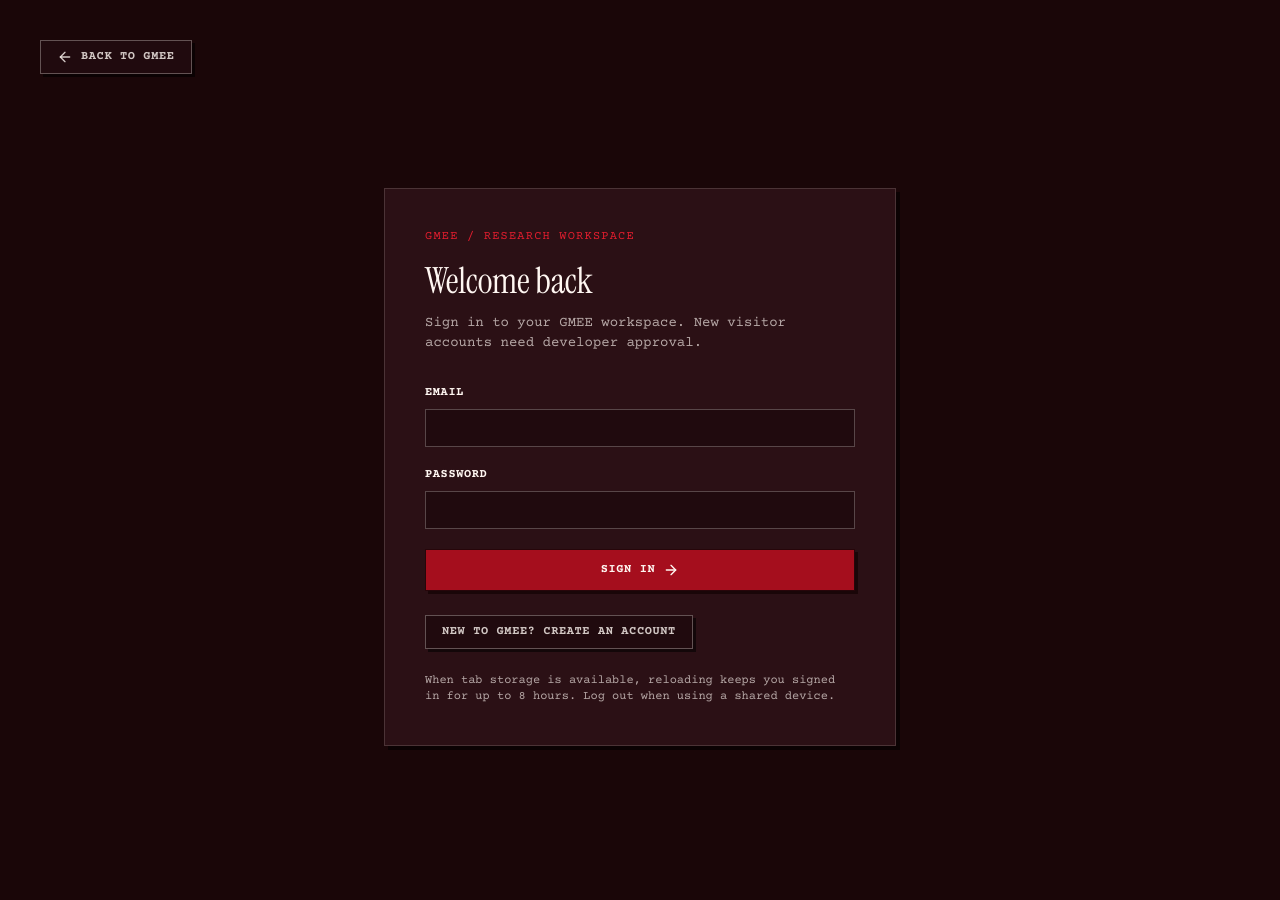
Test: visitor approval workflow › registers a named visitor and shows the waiting page without requesting corpus data
Click the button "New to GMEE? Create an account" at point(559, 632), box [425,615,693,649]
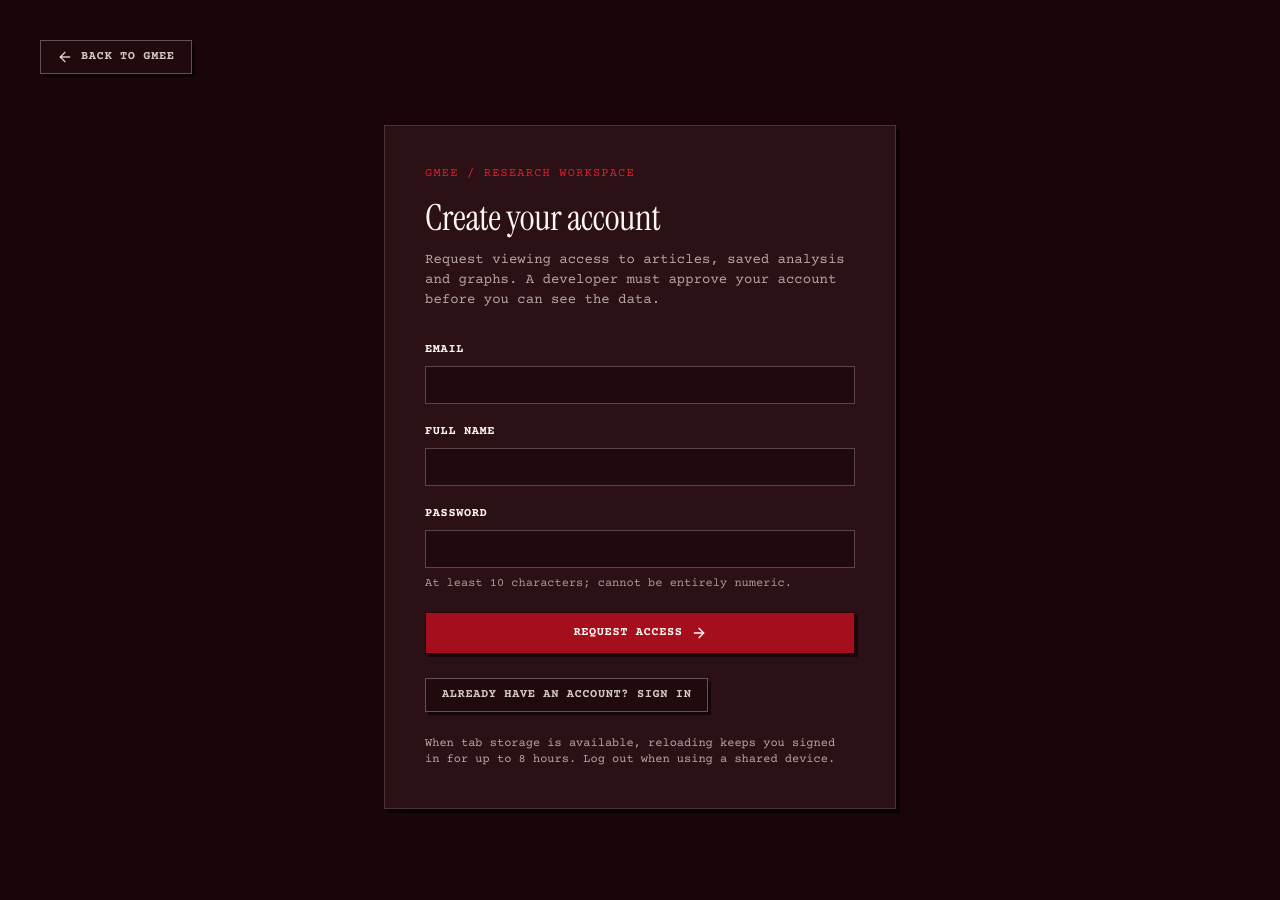
Type " New Visitor " into the field labelled "Full name" at point(640, 467), box [425,448,855,486]
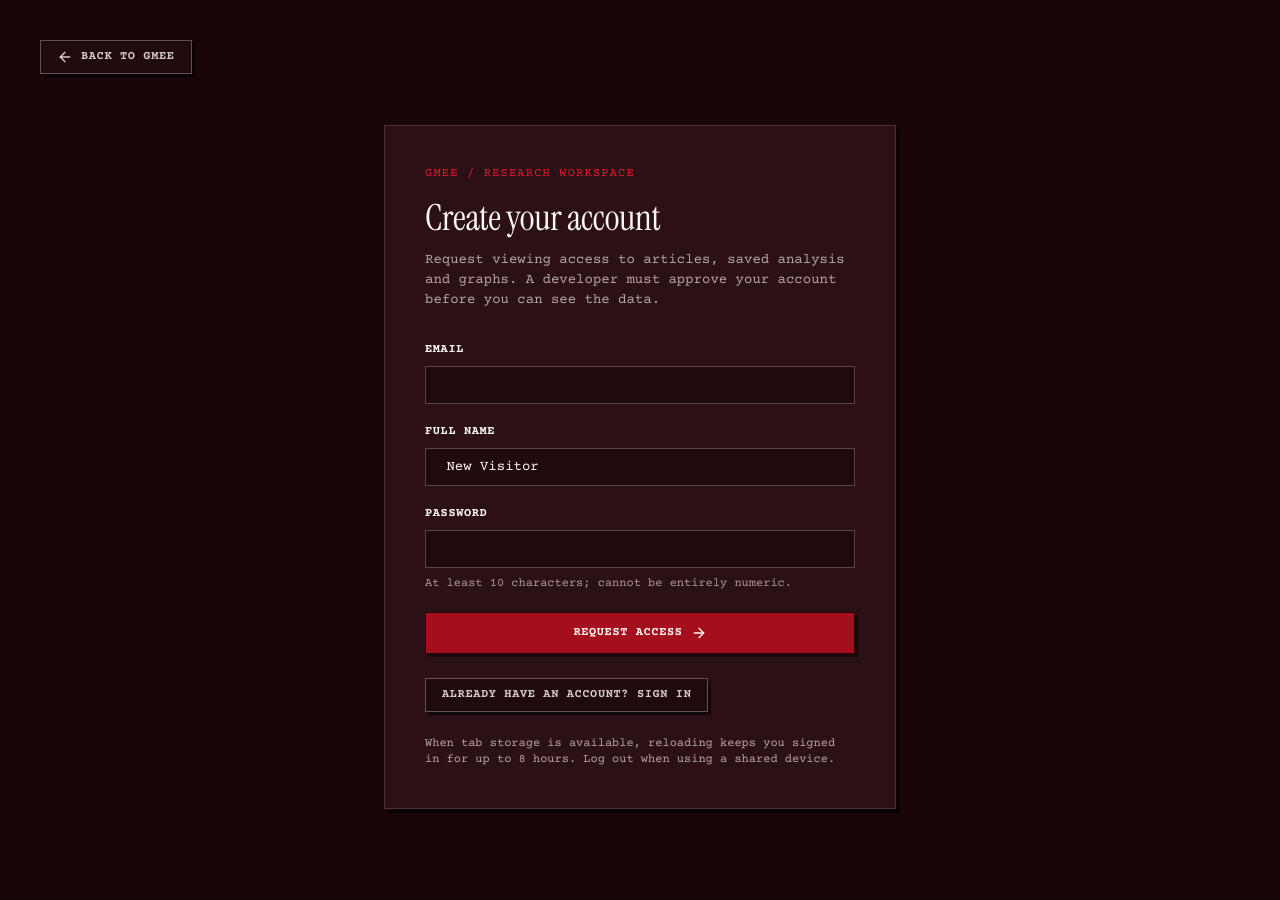
Type "reviewer@example.com" into the field labelled "Email" at point(640, 385), box [425,366,855,404]
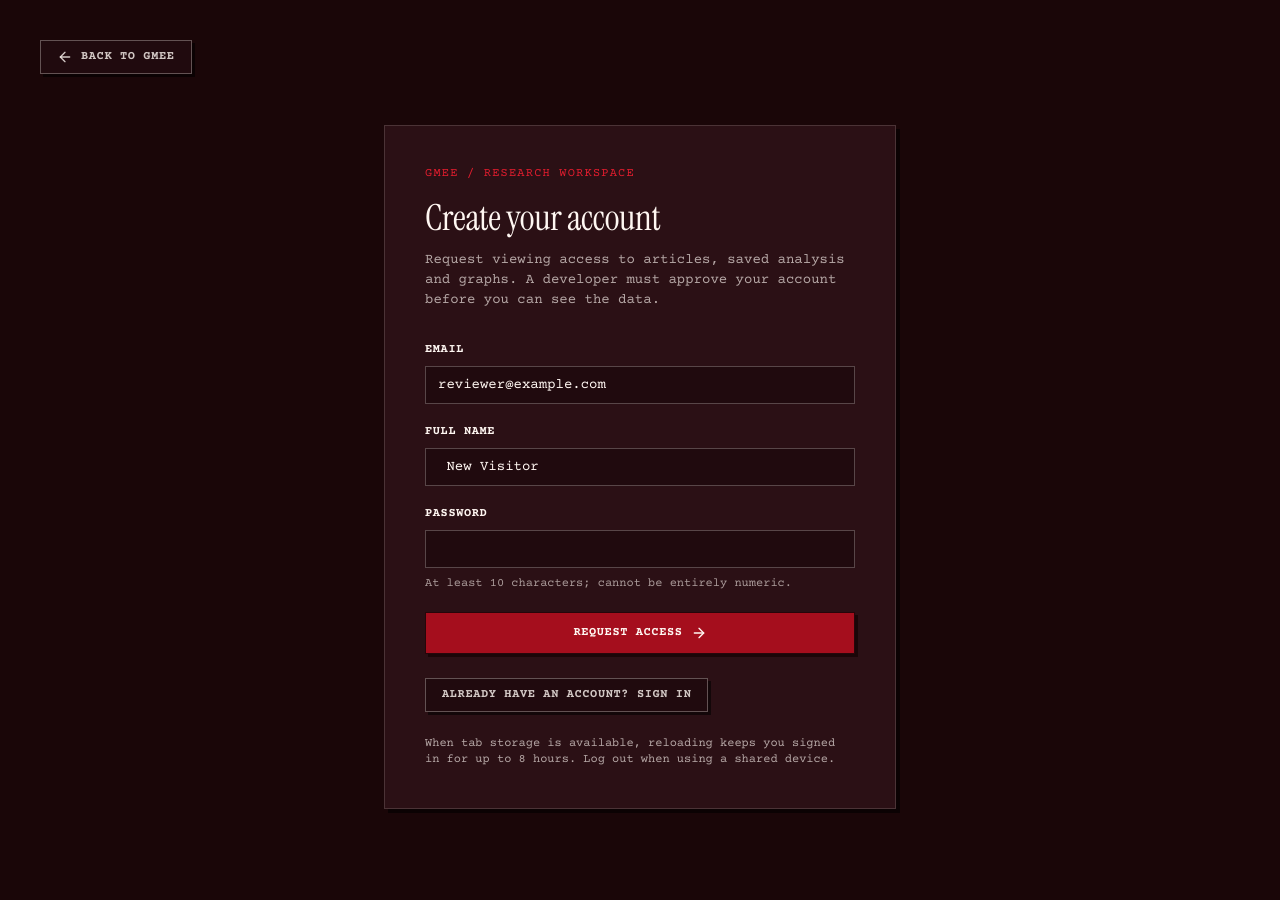
Type "visitor-password-test" into the password field labelled "Password" at point(640, 549), box [425,530,855,568]
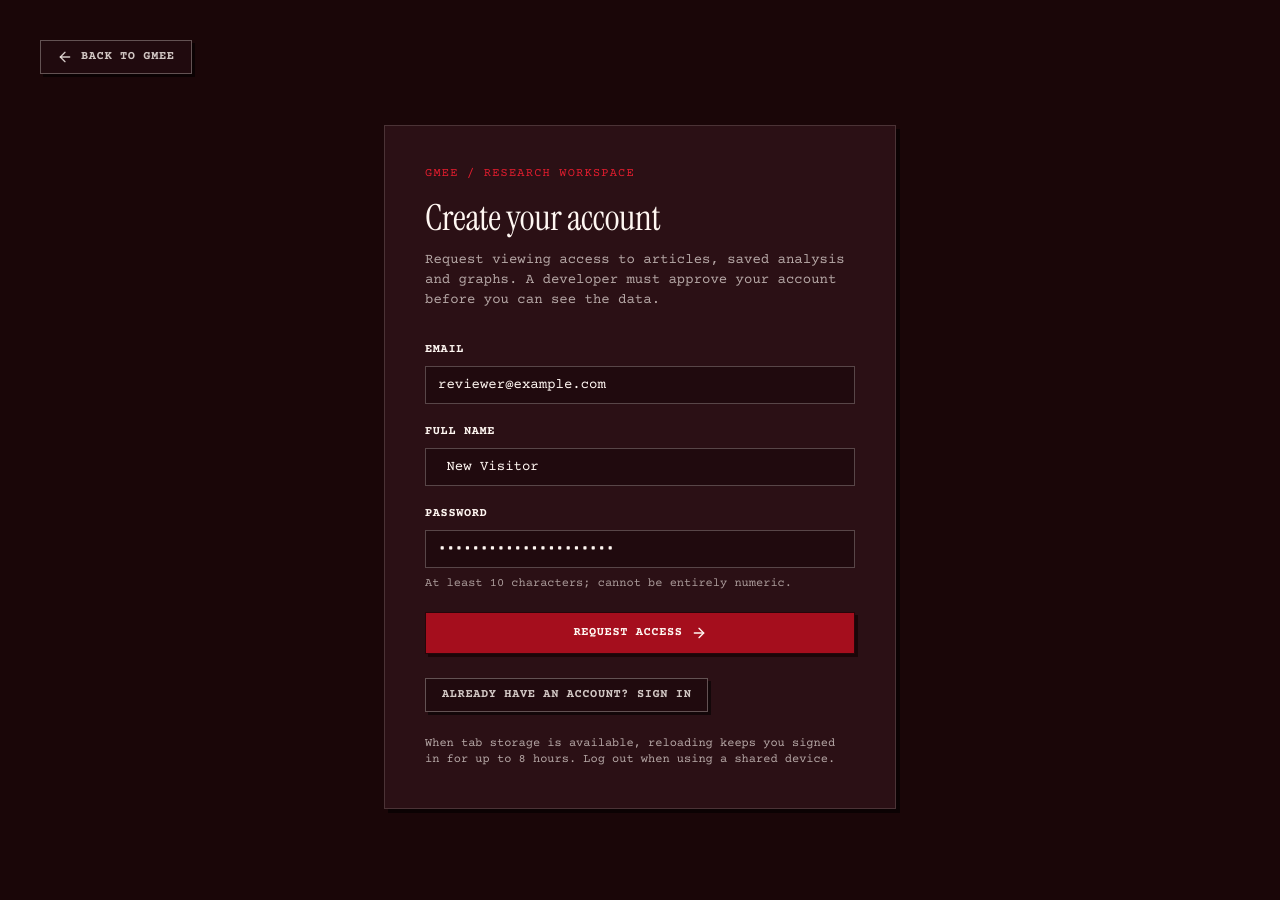
Click the button "Request access" at point(640, 633), box [425,612,855,654]
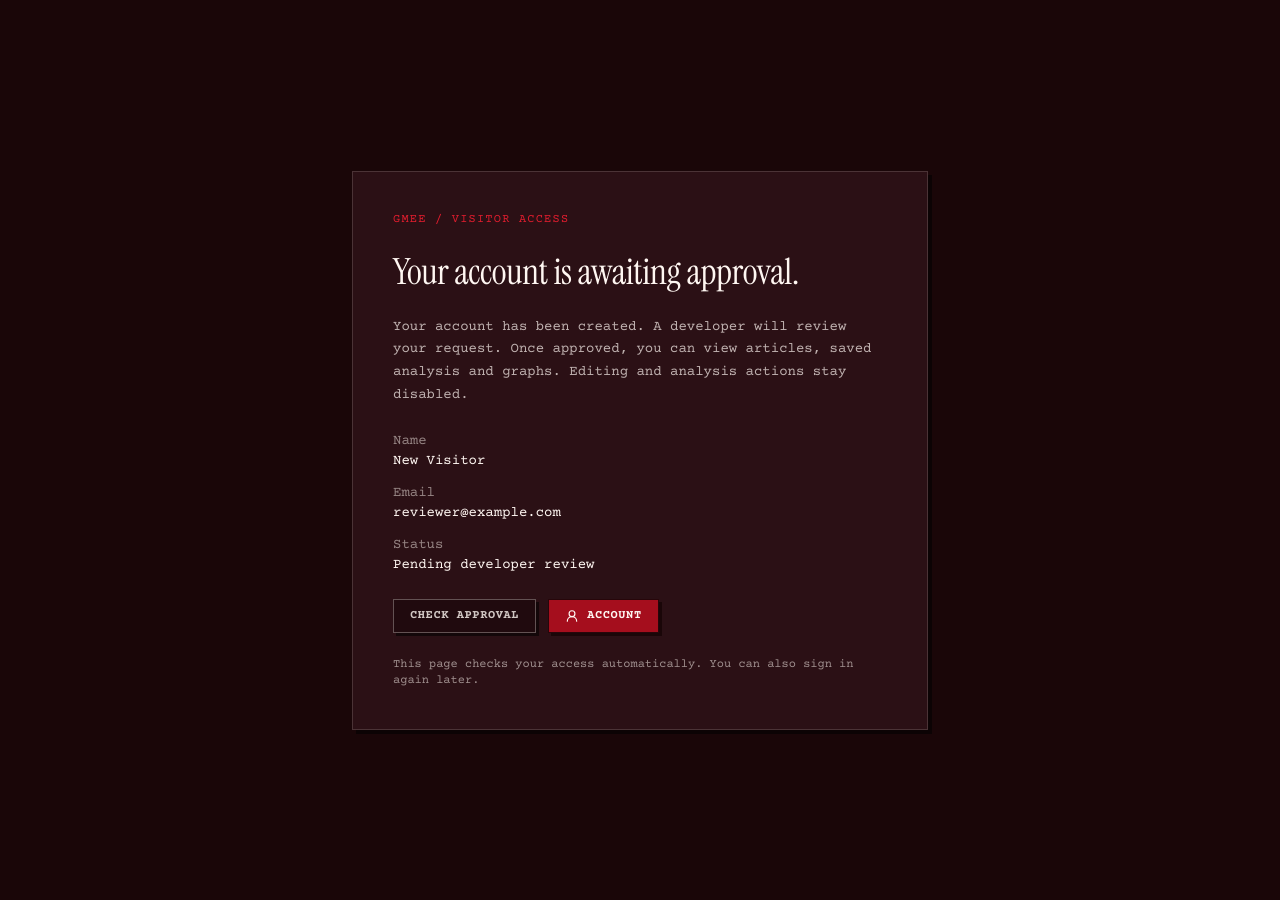
Expected: the heading "Your account is awaiting approval." is shown, [393,248,799,294]
